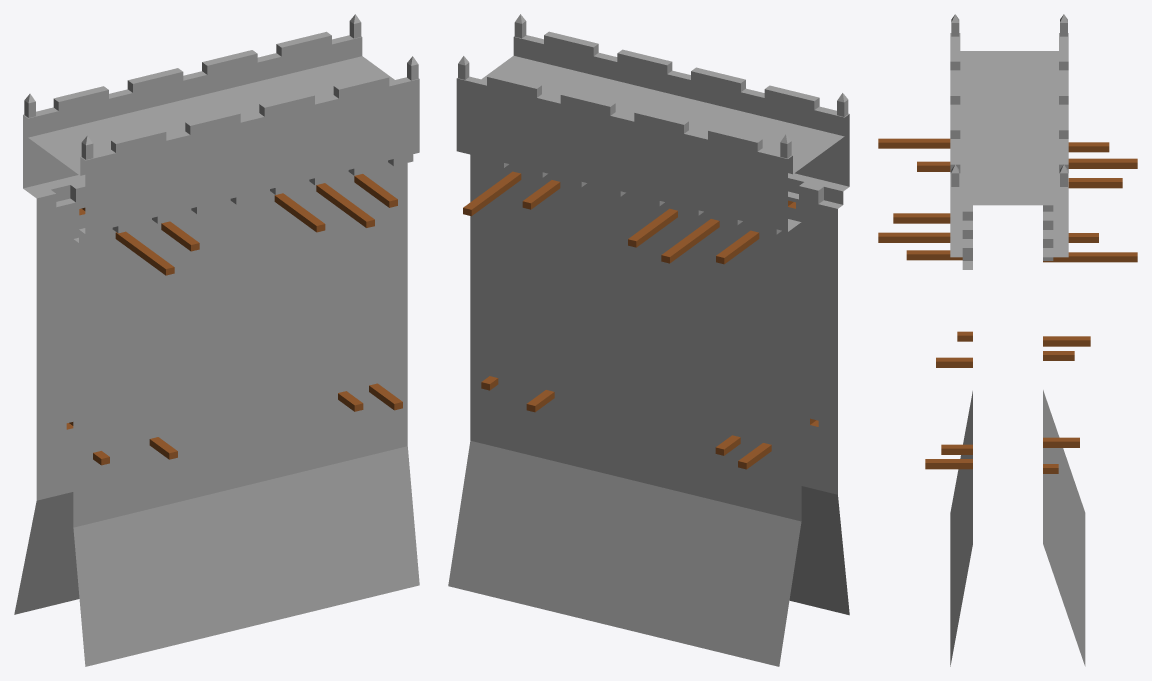
File: Building_Fortress_Castle_Wall_Large_03.fbx
The picture shows the model from 3 angles, left to right: view 1: azimuth 30°, elevation 25°; view 2: azimuth 150°, elevation 25°; view 3: azimuth 270°, elevation 25°; orthographic projection. The views are drawn at different scales.
Parts seen in each view (by area): view 1: Building_Fortress_Castle_Wall_Large_03; view 2: Building_Fortress_Castle_Wall_Large_03; view 3: Building_Fortress_Castle_Wall_Large_03.
Part boxes in pixels (box(x1,y1,x2,y2)): Building_Fortress_Castle_Wall_Large_03: box(14, 14, 419, 666); Building_Fortress_Castle_Wall_Large_03: box(448, 14, 849, 666); Building_Fortress_Castle_Wall_Large_03: box(878, 14, 1137, 666).
Size of the model in its own units: 303 by 457 by 215.
